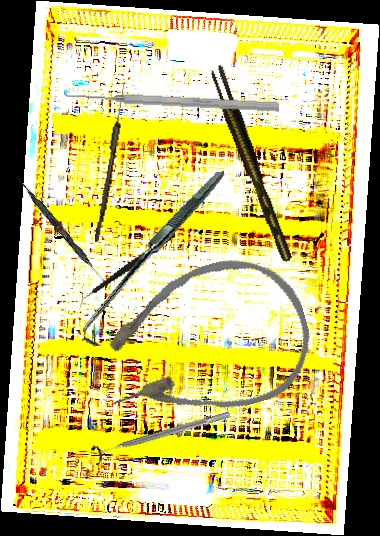Cannula: (82, 243, 325, 441)
Chopper: (66, 232, 188, 310)
Fixation Ring: (89, 403, 234, 467)
Hook Surgical: (62, 171, 248, 348)
Pusher: (63, 88, 280, 114)
Spatula Surgical: (12, 175, 113, 289)
Surgical Spoon: (94, 81, 128, 243)
Tissue Forceps: (208, 61, 293, 267)
